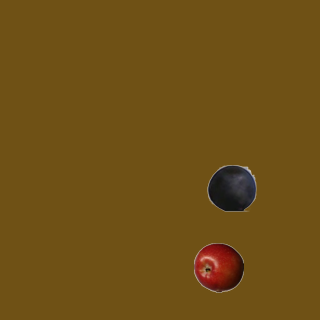Apple Braeburn: (193, 242, 243, 292)
Grape Blue: (206, 162, 256, 212)
